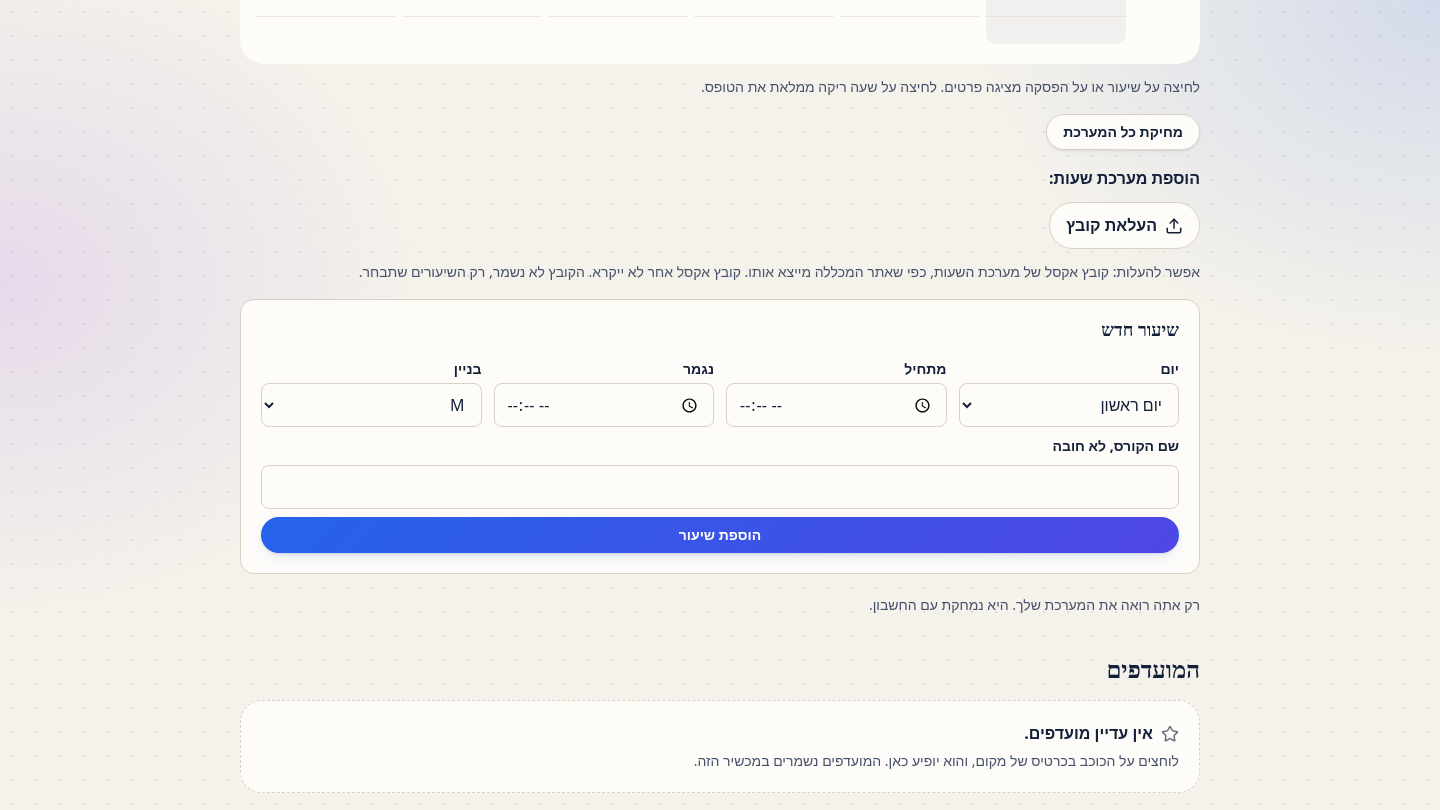
Test: the timetable › adds a class, and the suggestions are asked for again
The width and height of the screenshot is (1440, 810).
(page scrolled)
Select "יום שני" in the dropdown labelled "יום" at point(1069, 405), box [958, 383, 1179, 427]
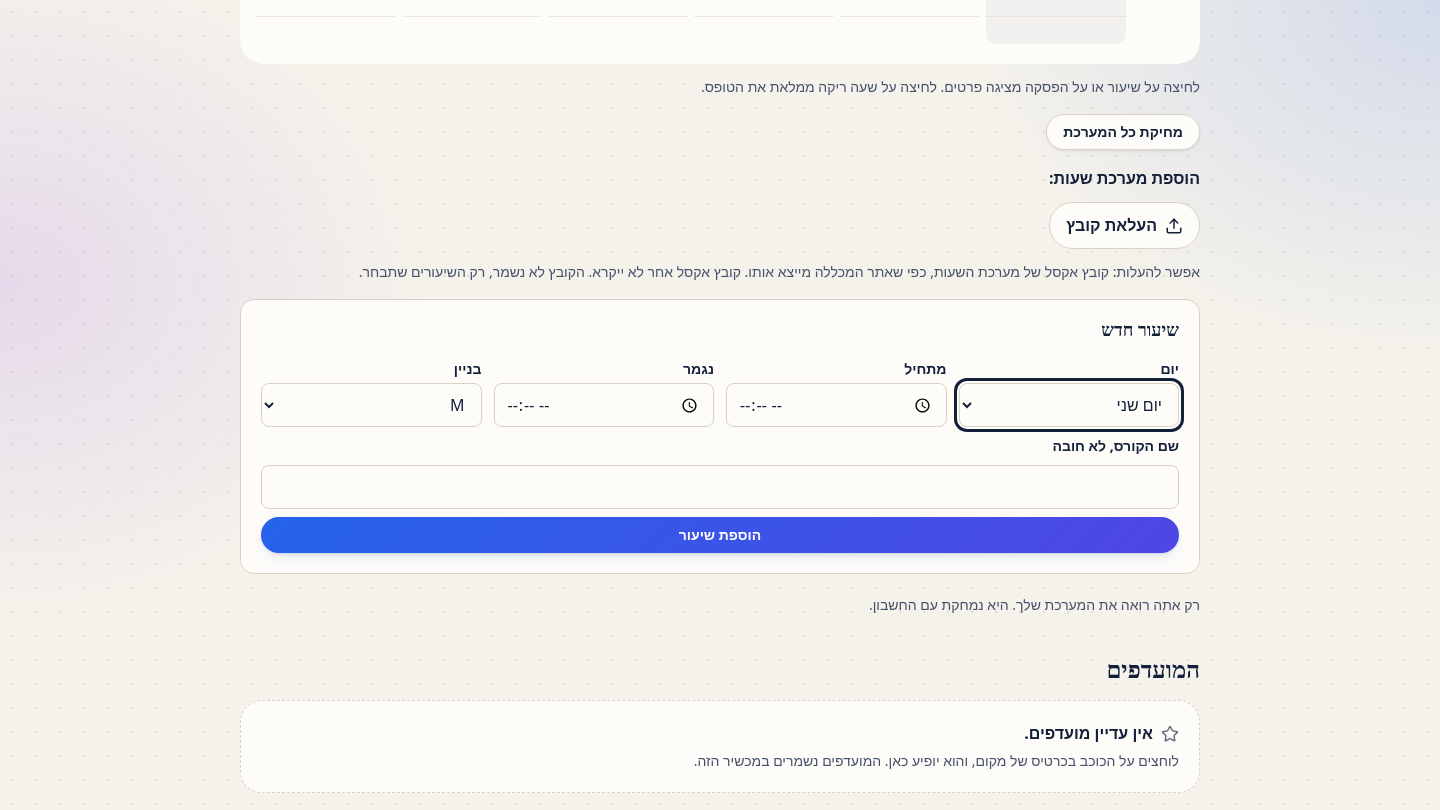
Type "14:00" into the time field labelled "מתחיל" at point(836, 405), box [726, 383, 946, 427]
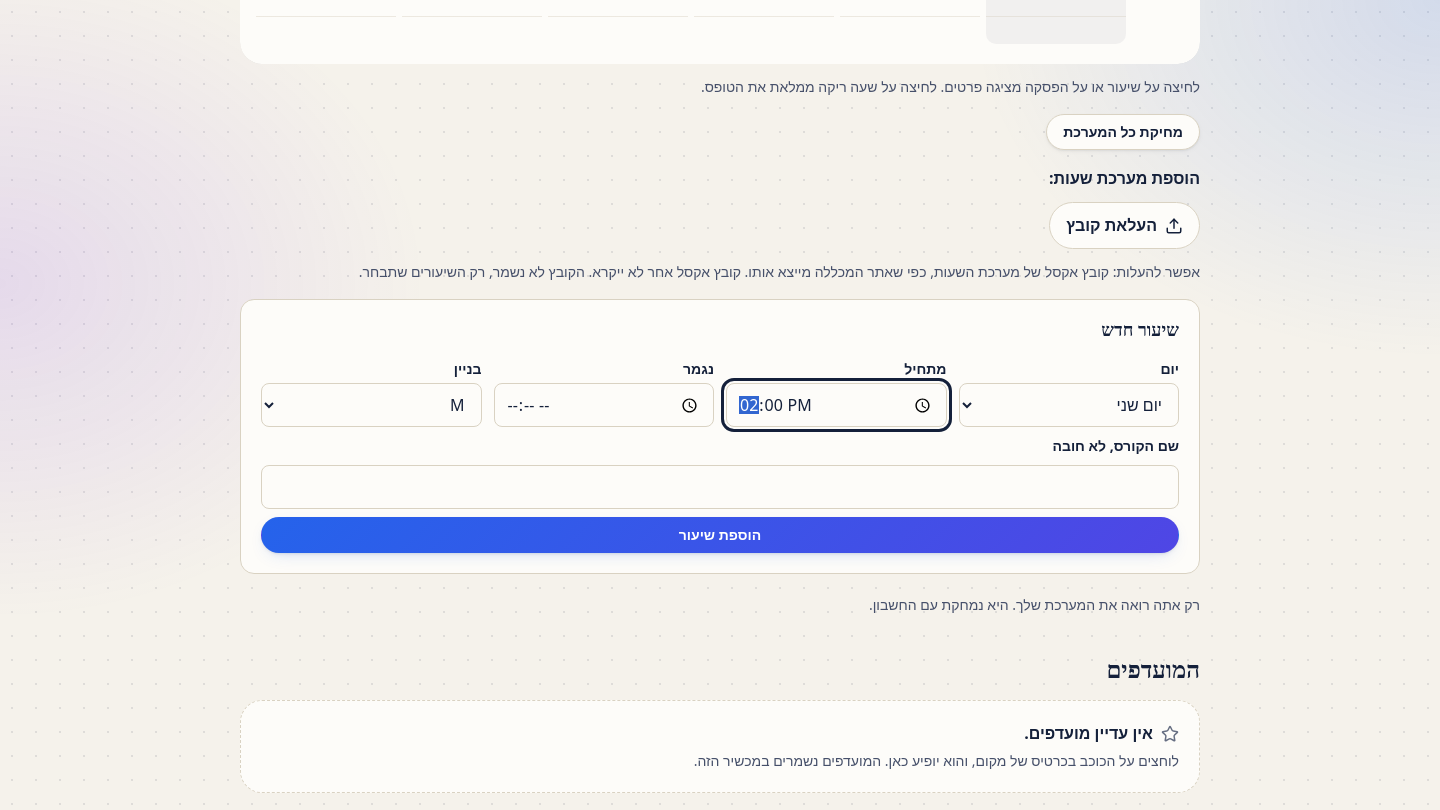
Type "15:30" into the time field labelled "נגמר" at point(604, 405), box [494, 383, 714, 427]
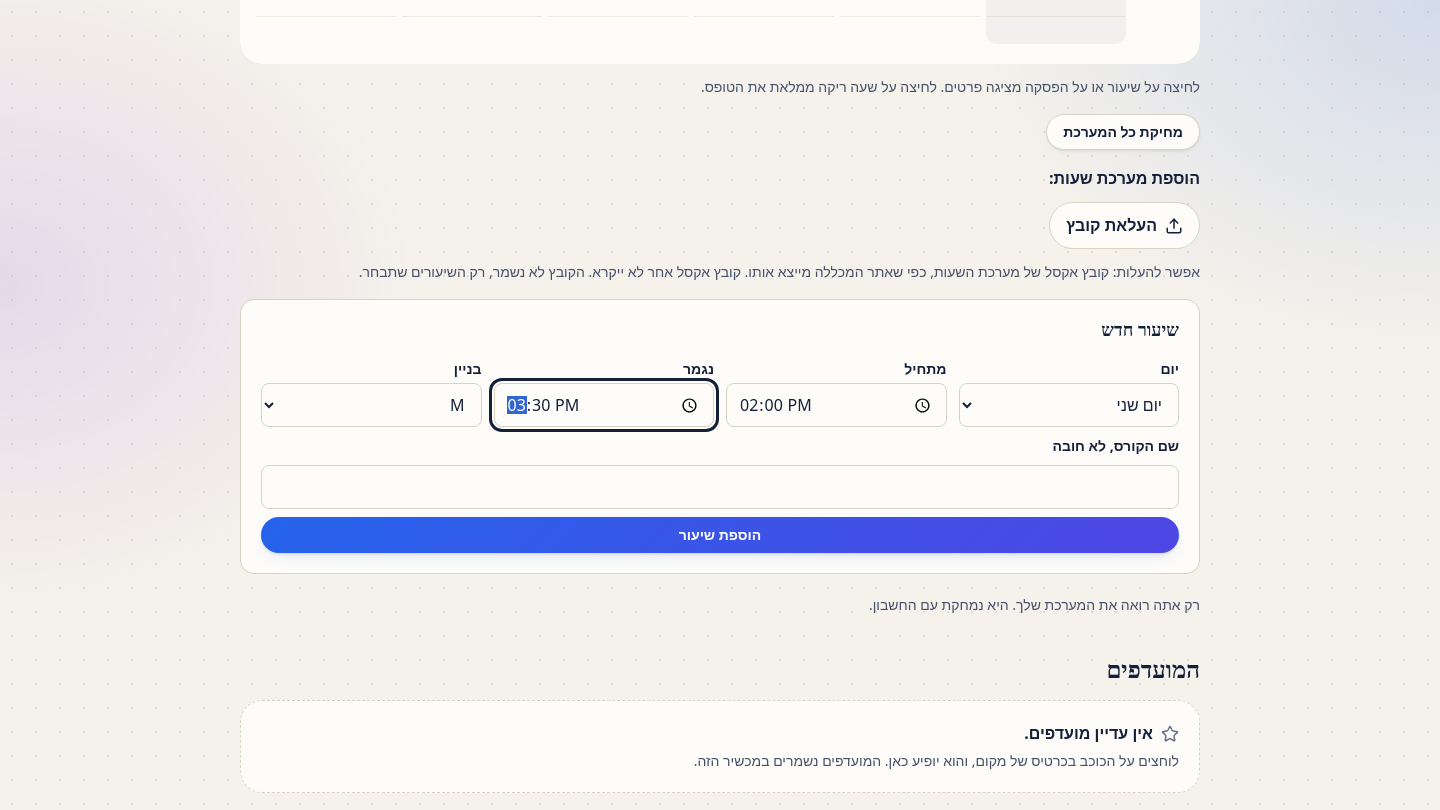
Select "EF" in the dropdown labelled "בניין" at point(371, 405), box [261, 383, 482, 427]
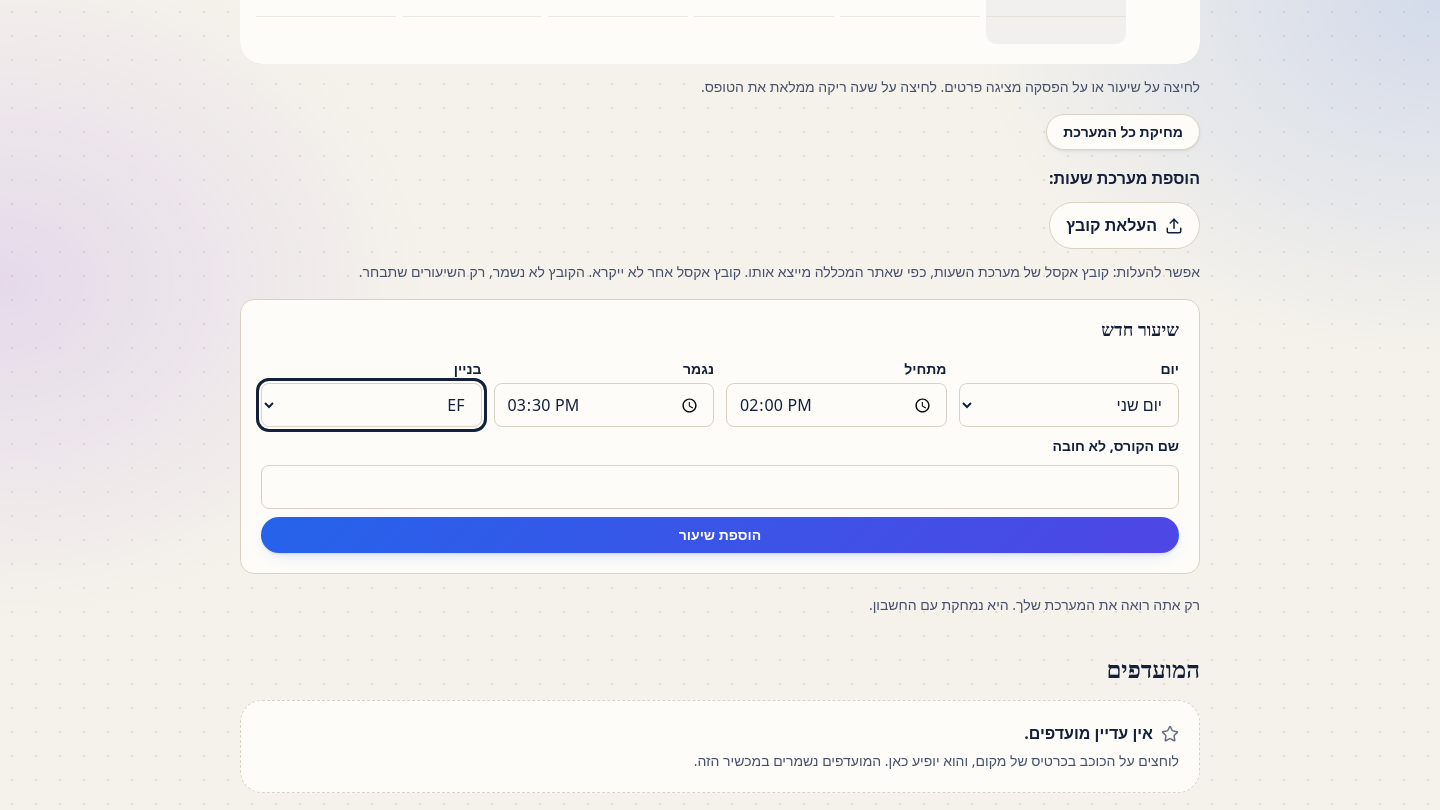
Type "אלגוריתמים" into the field labelled "שם הקורס, לא חובה" at point(720, 487), box [261, 465, 1179, 509]
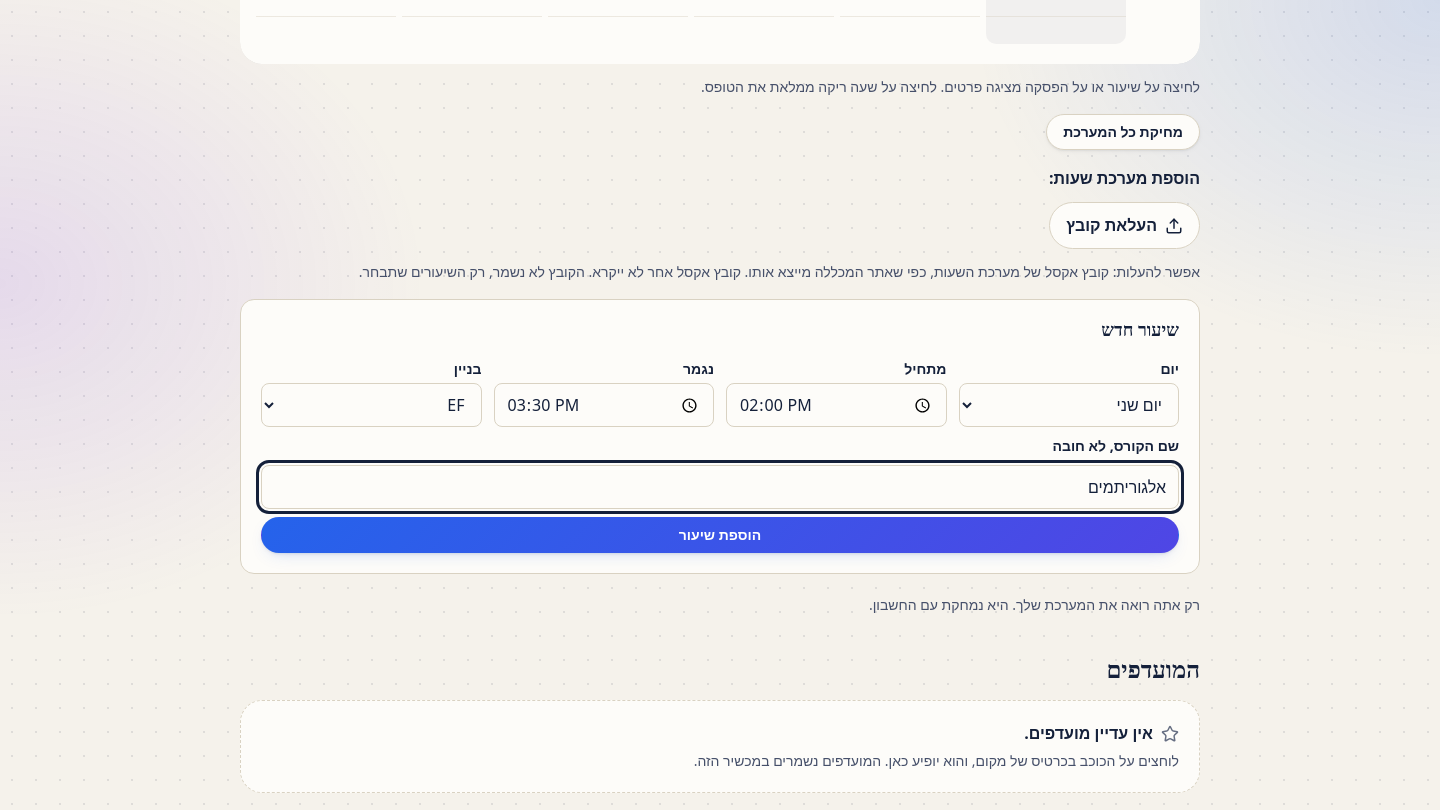
Click the button "הוספת שיעור" at point(720, 535), box [261, 517, 1179, 553]
(page scrolled)
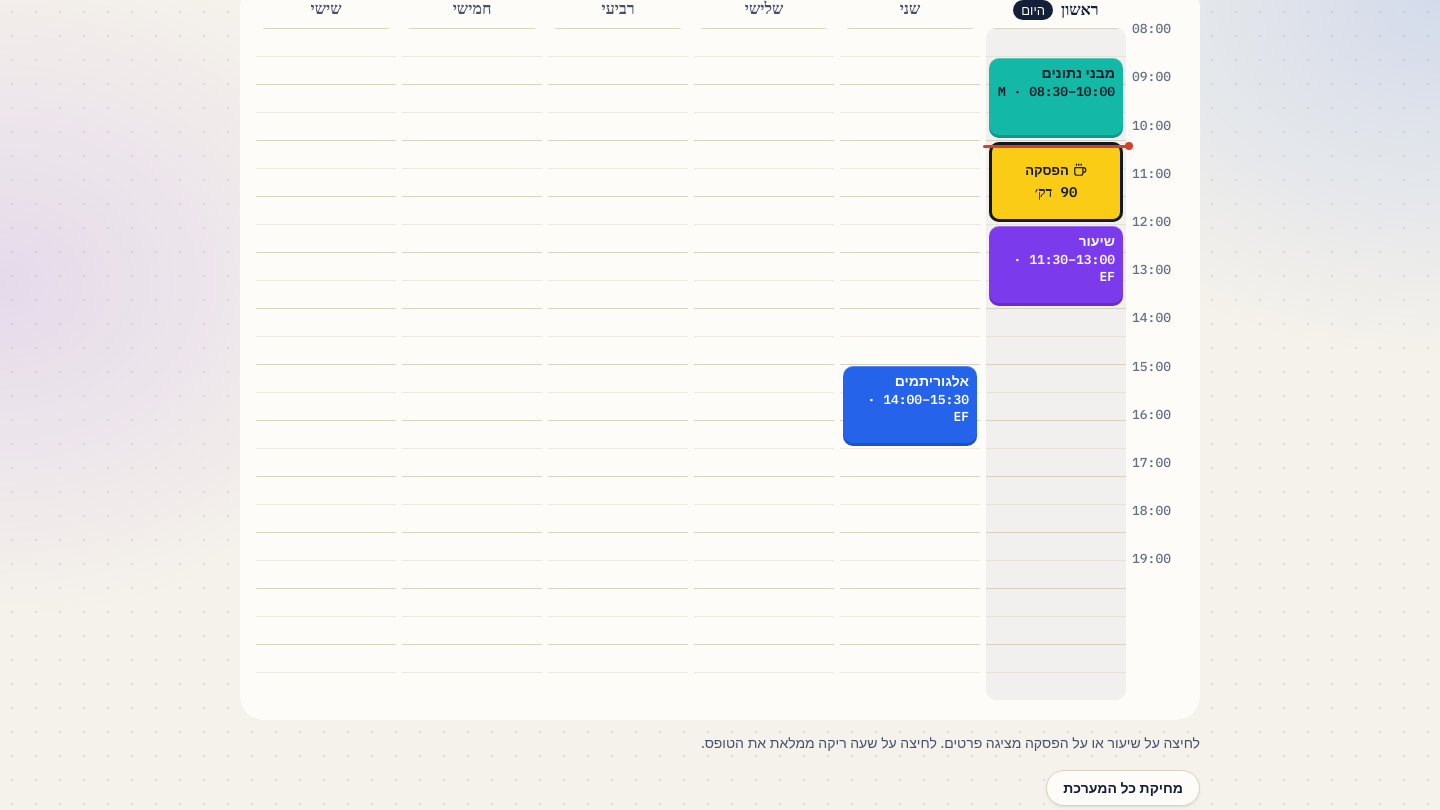
Expected: the button with aria-label "אלגוריתמים, יום שני 14:00 עד 15:30, בניין EF" is shown, [843, 366, 977, 446]
